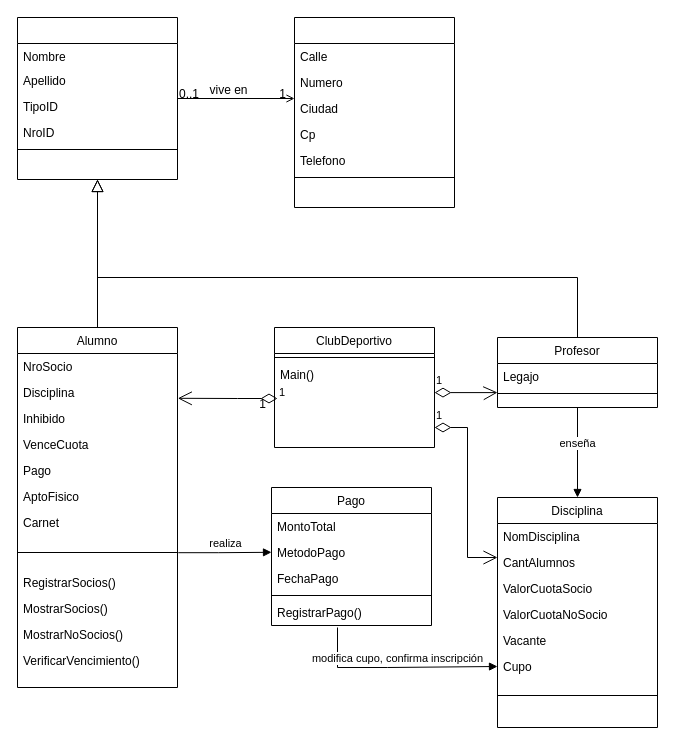
Image size: 675x745. Some labels were removed from this diagram. The box of each missing label's shape, as (x1, y1, x2, y2) in pixels:
Domicilio: (294, 16, 454, 208)
Persona: (16, 16, 178, 180)
